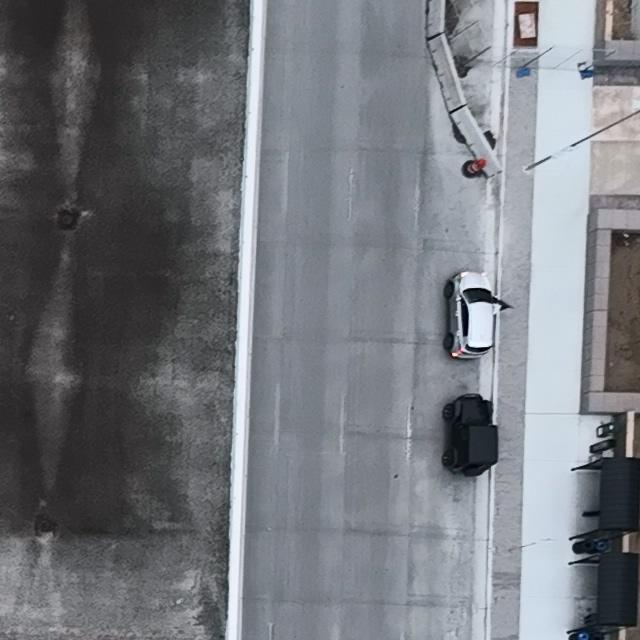car: (442, 270, 496, 360), (442, 392, 499, 476)
